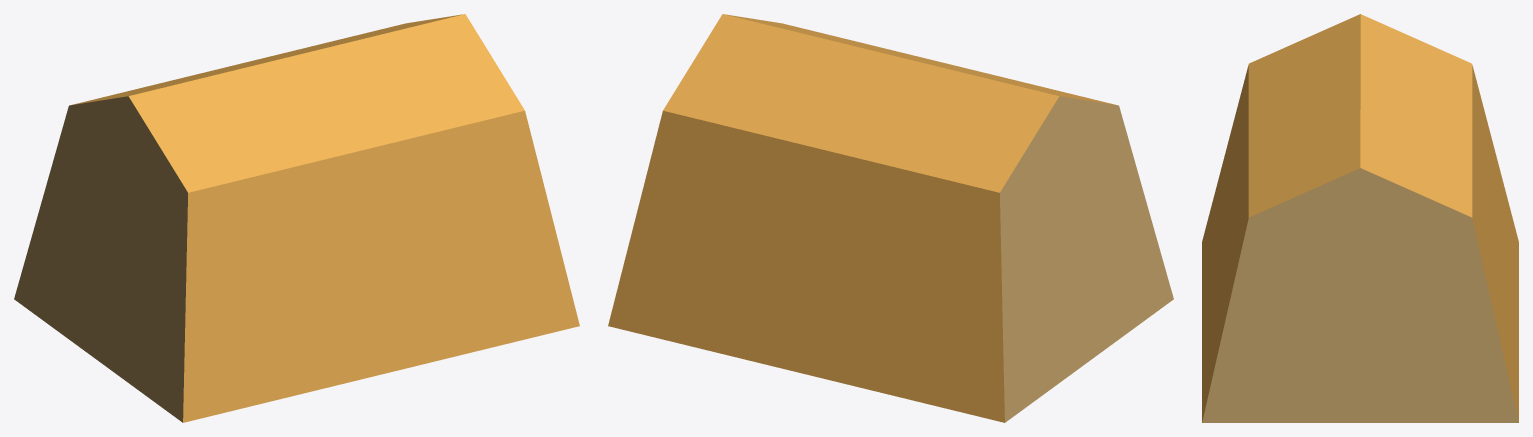
File: TB_Prop_Sheaf_Wagon_A.FBX
The picture shows the model from 3 angles, left to right: view 1: azimuth 30°, elevation 25°; view 2: azimuth 150°, elevation 25°; view 3: azimuth 270°, elevation 25°; orthographic projection. The views are drawn at different scales.
Parts seen in each view (by area): view 1: TB_Prop_Sheaf_Wagon_A; view 2: TB_Prop_Sheaf_Wagon_A; view 3: TB_Prop_Sheaf_Wagon_A.
Boxes of the visible parts, x1=… form: TB_Prop_Sheaf_Wagon_A: x1=14, y1=14, x2=579, y2=422; TB_Prop_Sheaf_Wagon_A: x1=608, y1=14, x2=1173, y2=422; TB_Prop_Sheaf_Wagon_A: x1=1202, y1=14, x2=1518, y2=422.
Size of the model in its own units: 2.35 by 1.46 by 1.74.
